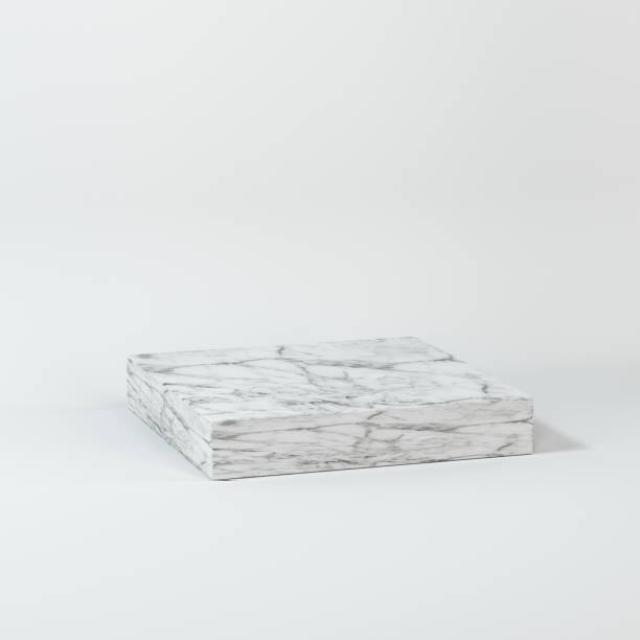Metamorphic: (122, 336, 542, 472)
